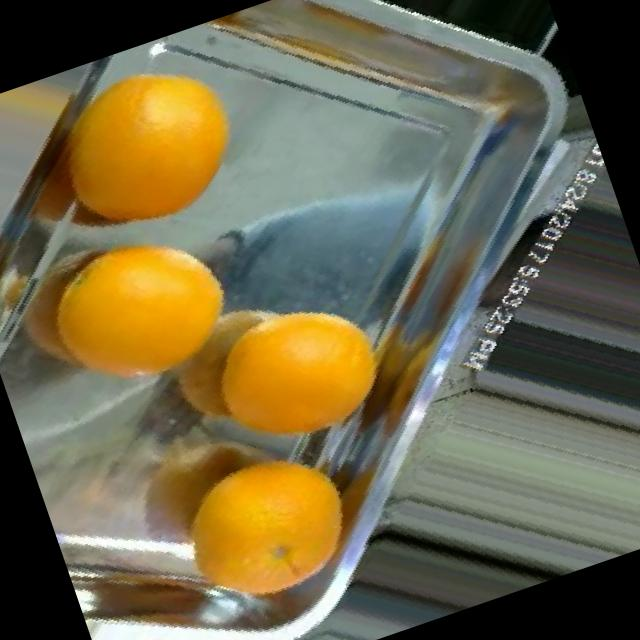Fruit: (150, 246, 432, 508), (321, 0, 564, 115)
